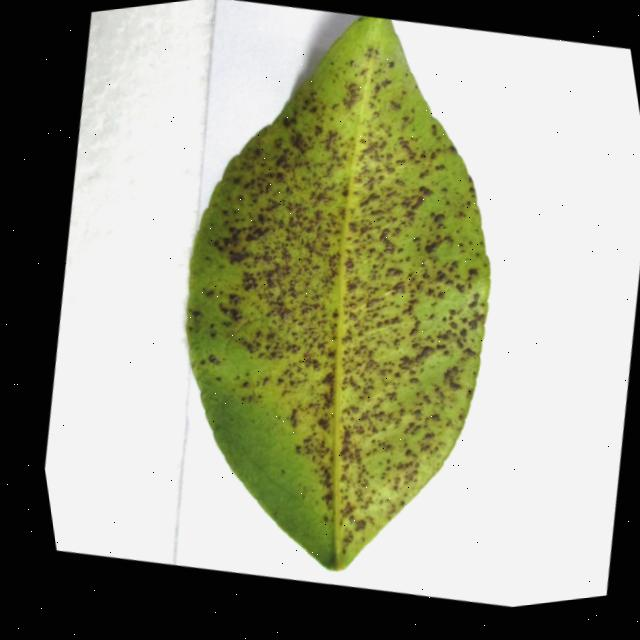melanose: (186, 15, 489, 569)
